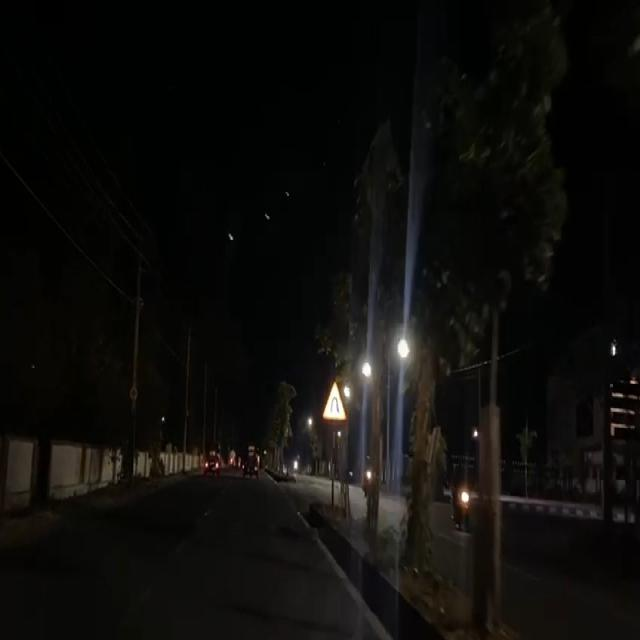bien_cam: (322, 381, 347, 423)
